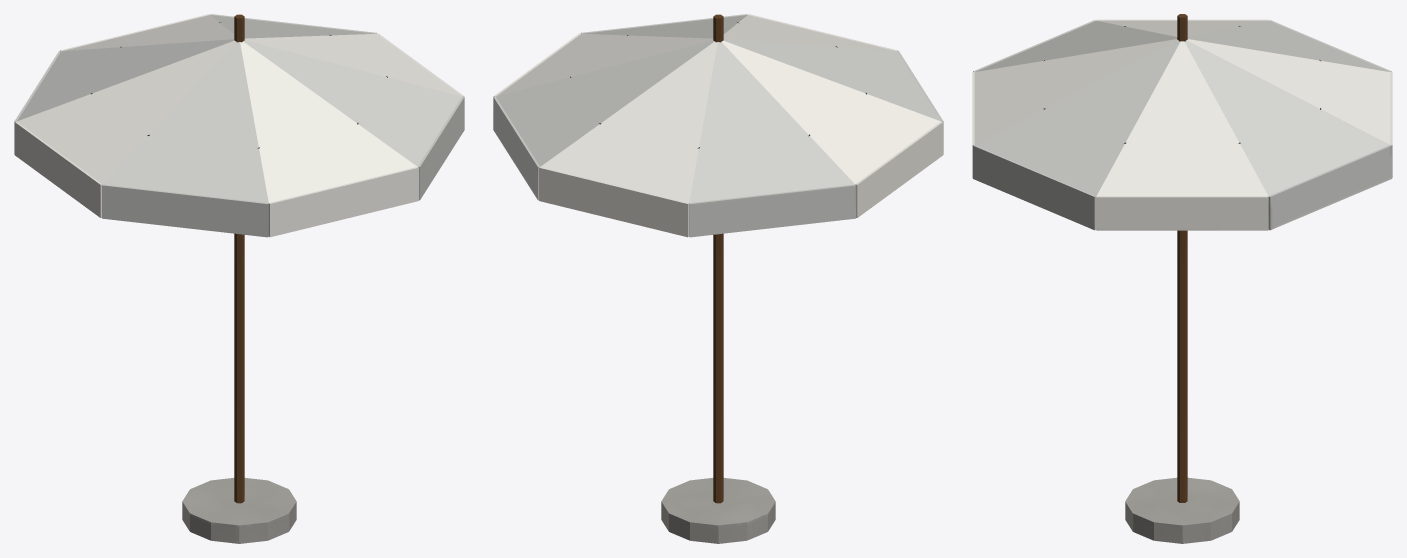
File: slunecnik_b557592a.glb
The picture shows the model from 3 angles, left to right: view 1: azimuth 30°, elevation 25°; view 2: azimuth 150°, elevation 25°; view 3: azimuth 270°, elevation 25°; orthographic projection.
Parts seen in each view (by area): view 1: dum; view 2: dum; view 3: dum.
Part boxes in pixels (x1,y1,x2,y2): dum: (14,14,464,543); dum: (493,14,943,543); dum: (972,14,1392,543).
Size of the model in its own units: 2.05 by 2.71 by 2.05.
Materials: 1 (1 with a texture image).
